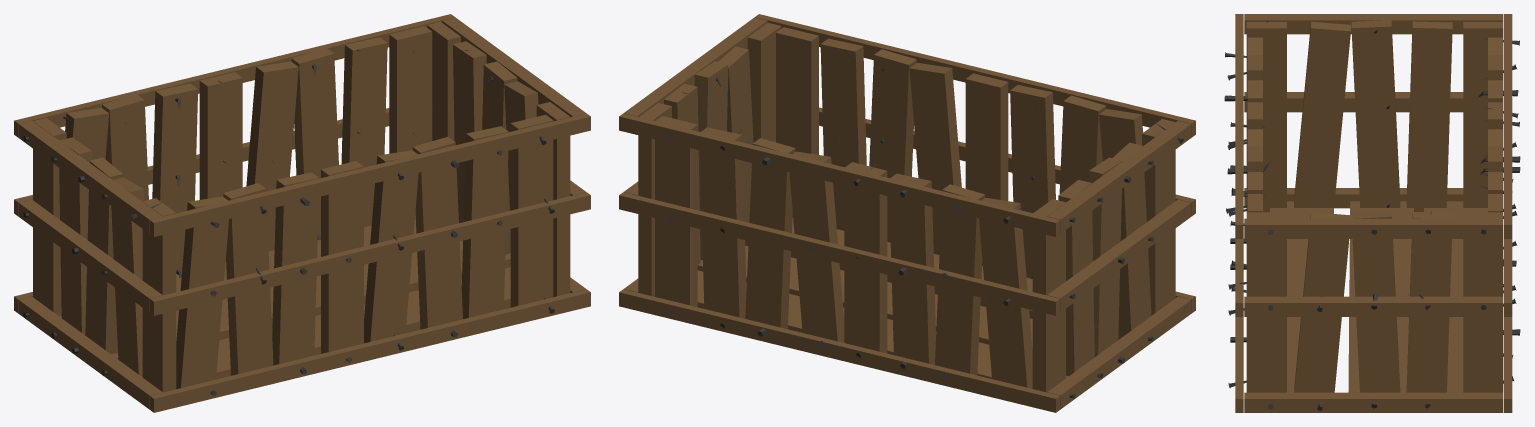
The model's file is tara_madera.glb.
3 views of the same model, side by side, from view 1: azimuth 30°, elevation 25°; view 2: azimuth 150°, elevation 25°; view 3: azimuth 270°, elevation 25° (orthographic).
Parts seen in each view (by area): view 1: madera, clavos; view 2: madera, clavos; view 3: madera, clavos.
Part boxes in pixels (x1,y1,x2,y2): madera: [14, 14, 590, 412]; clavos: [23, 34, 554, 395]; madera: [619, 14, 1195, 412]; clavos: [668, 67, 1183, 399]; madera: [1235, 14, 1512, 412]; clavos: [1224, 20, 1520, 410].
Size of the model in its own units: 0.6152 by 0.2585 by 0.3569.
